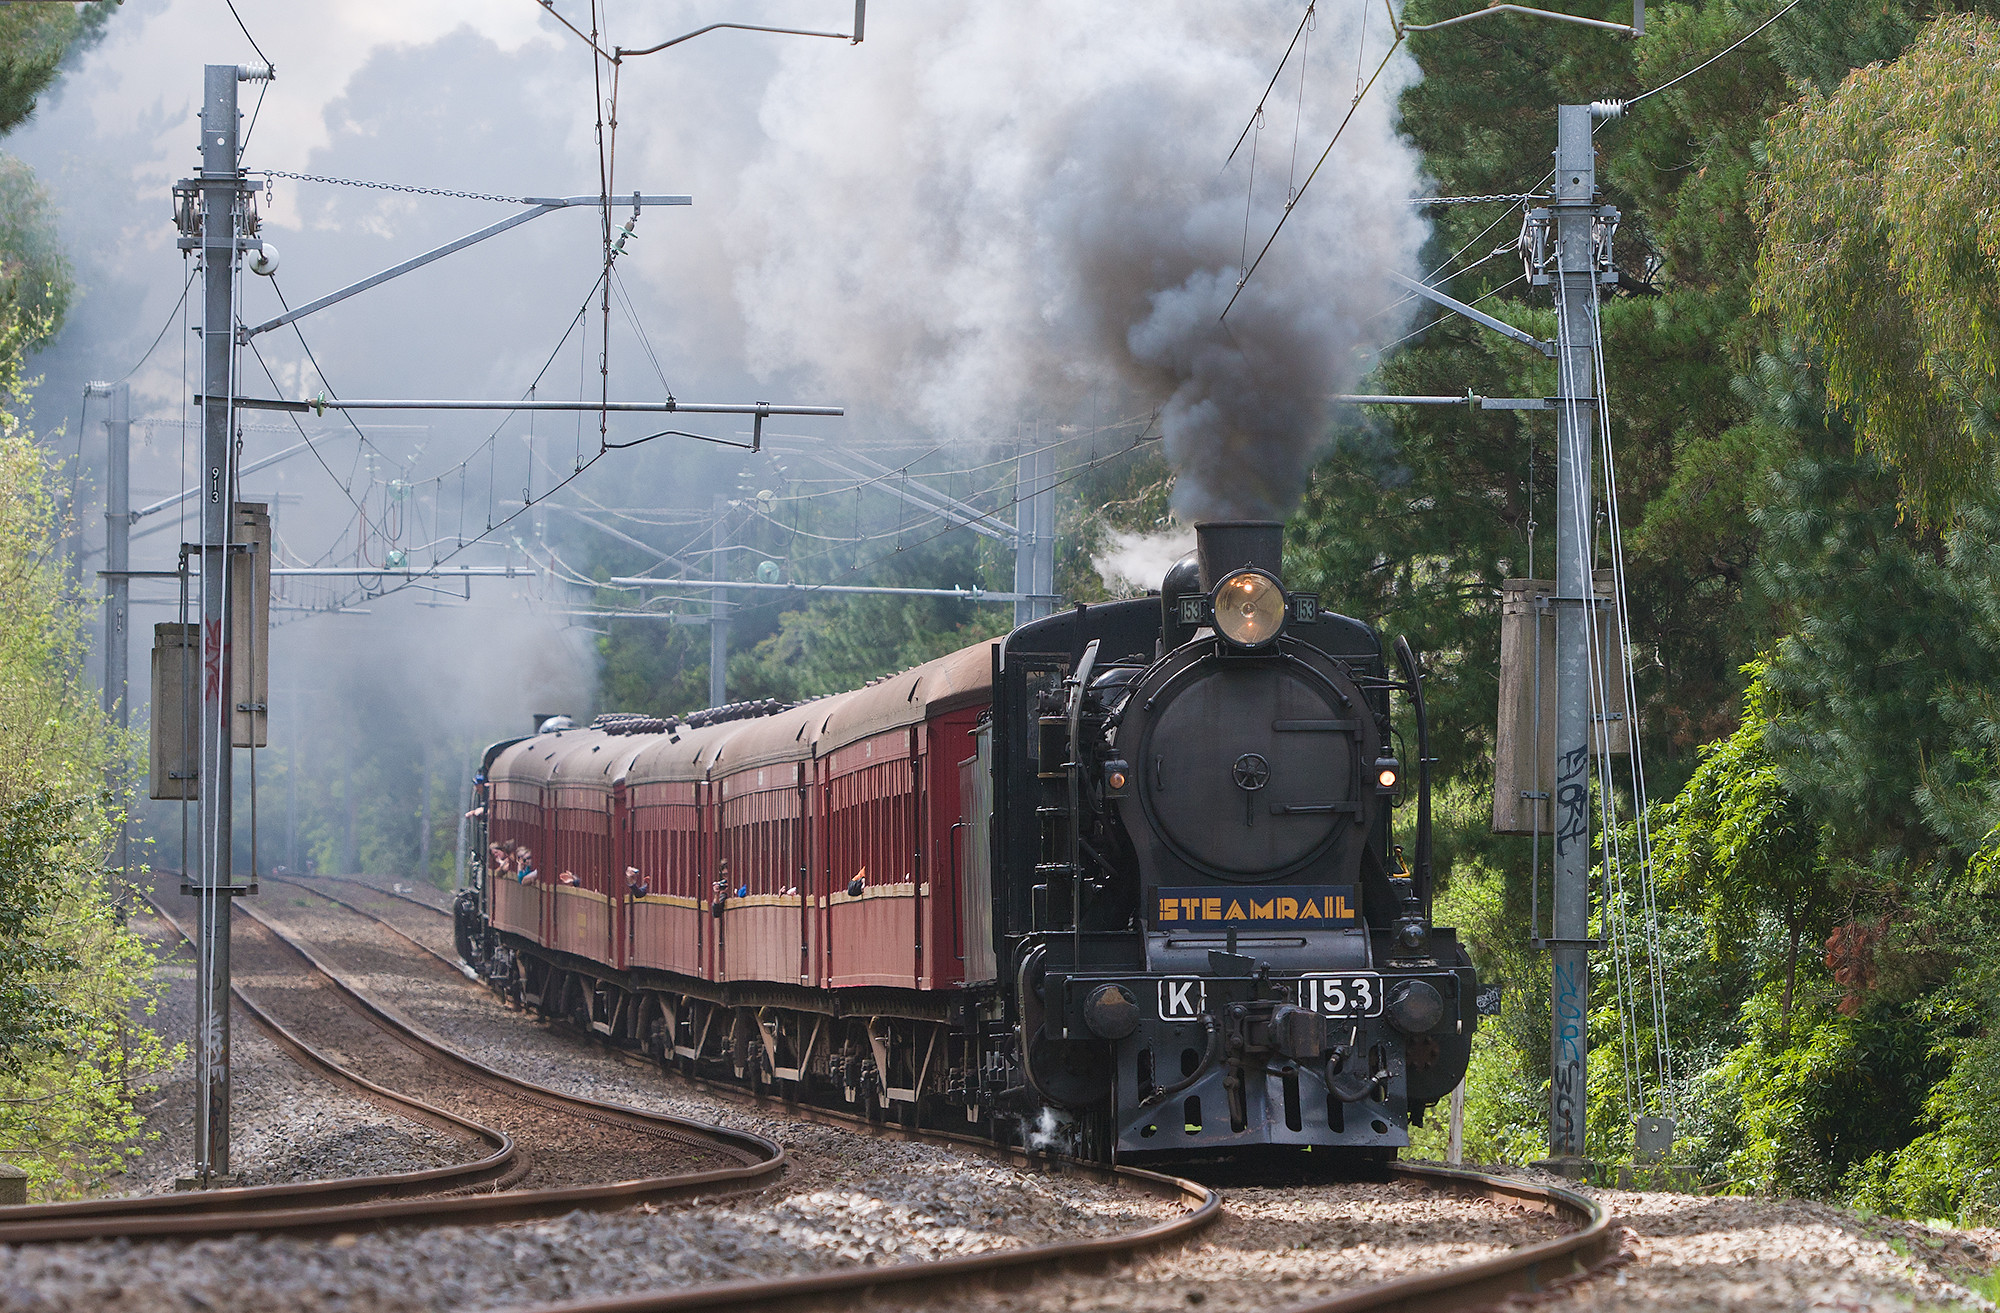train: (494, 525, 1486, 1191)
